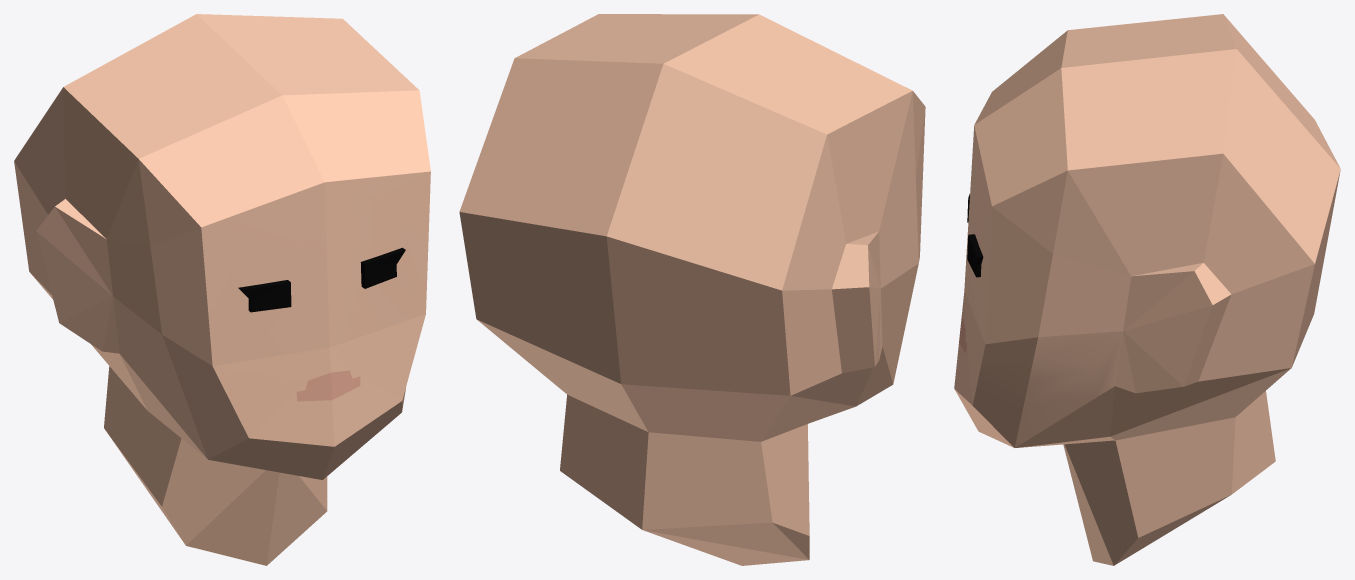
The model's file is Chr_Head_Female_22_Static.fbx.
3 renders of one model, left to right at view 1: azimuth 30°, elevation 25°; view 2: azimuth 150°, elevation 25°; view 3: azimuth 270°, elevation 25°, orthographic. The views are drawn at different scales.
Parts seen in each view (by area): view 1: Chr_Head_Female_22_Static; view 2: Chr_Head_Female_22_Static; view 3: Chr_Head_Female_22_Static.
Part boxes in pixels (x1,y1,x2,y2): Chr_Head_Female_22_Static: [14, 14, 430, 565]; Chr_Head_Female_22_Static: [459, 14, 925, 565]; Chr_Head_Female_22_Static: [954, 14, 1340, 565].
Size of the model in its own units: 0.2661 by 0.3693 by 0.2526.
